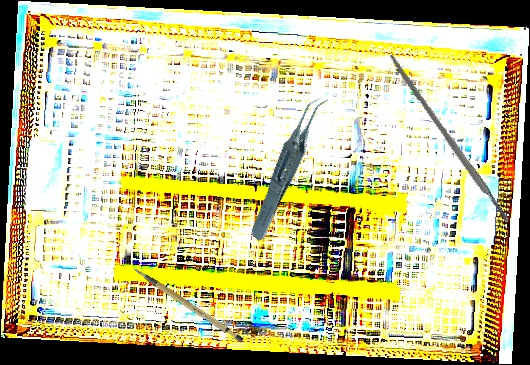Scalpel Handle: (386, 52, 511, 225), (131, 250, 246, 357)
Tissue Forceps: (223, 91, 357, 244)
